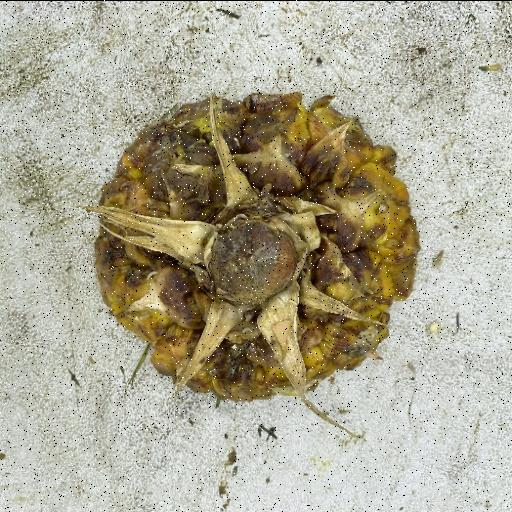Waste: (84, 89, 420, 433)
